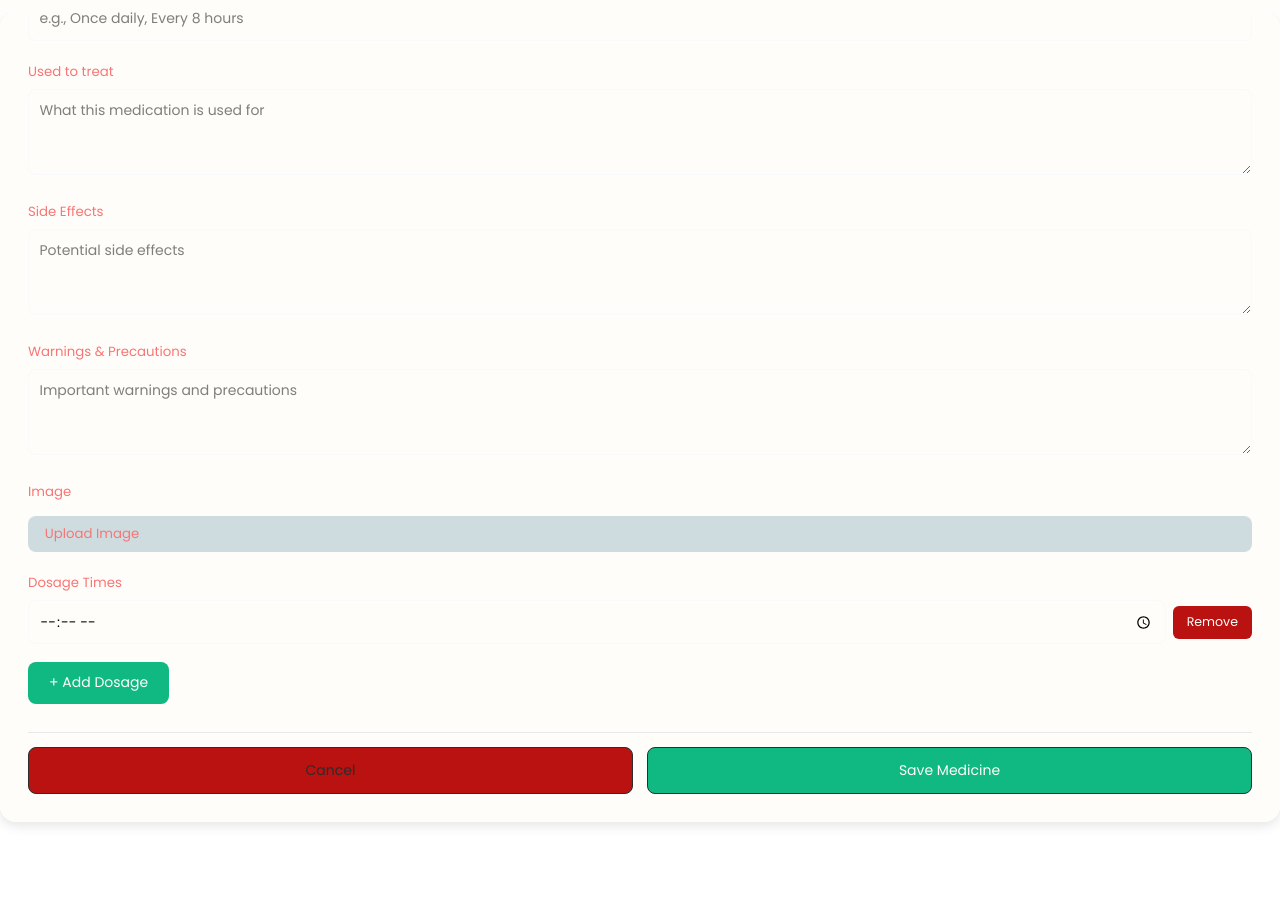
Scenario: MedicationForm Component (Updated Version) › should add new dosage row when add button is clicked
The width and height of the screenshot is (1280, 912).
(page scrolled)
Click the button "+ Add Dosage" at x=99, y=683, box [28,662,169,704]
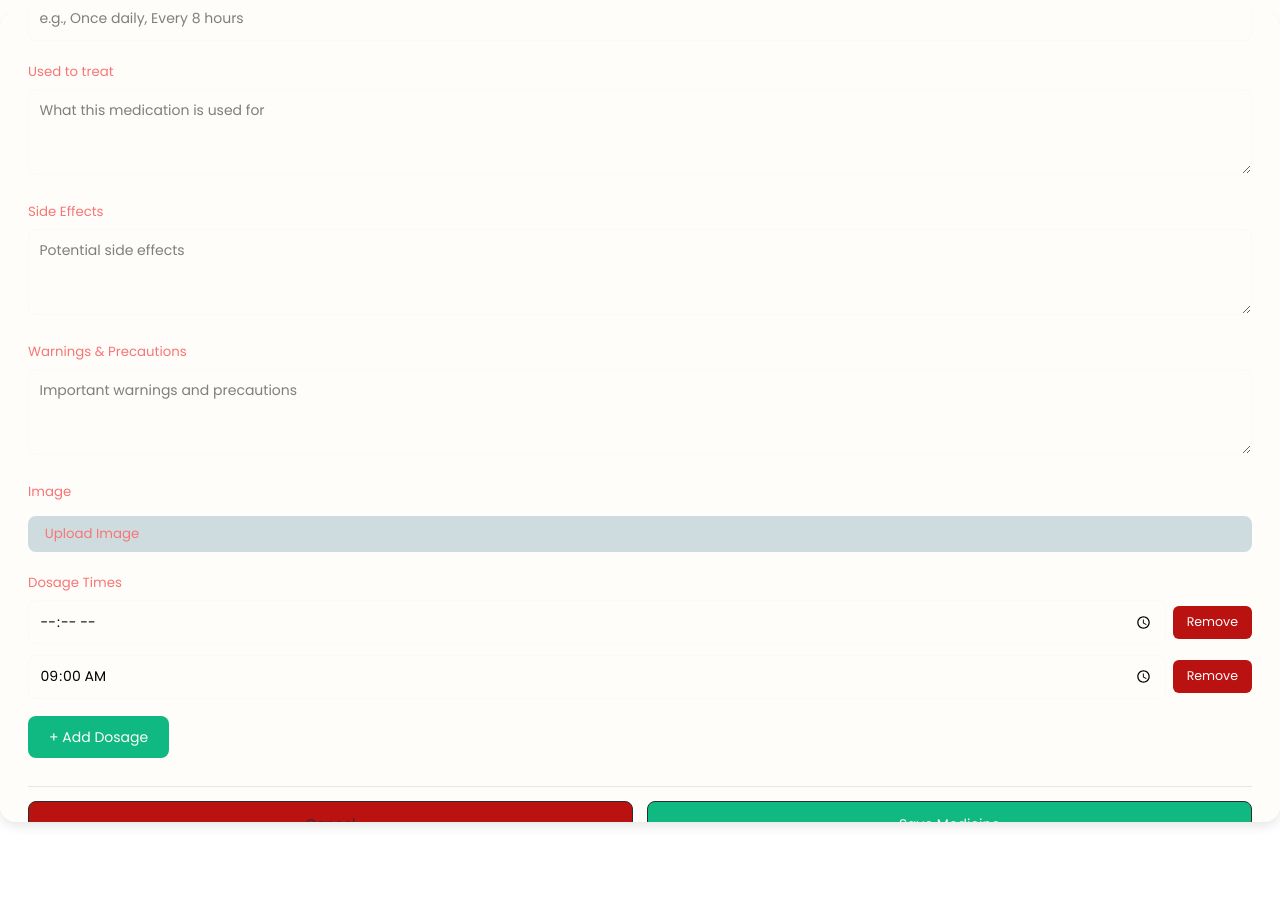
Expected: the number of time fields is 2, [28,600,1166,644]; [28,655,1166,699]
